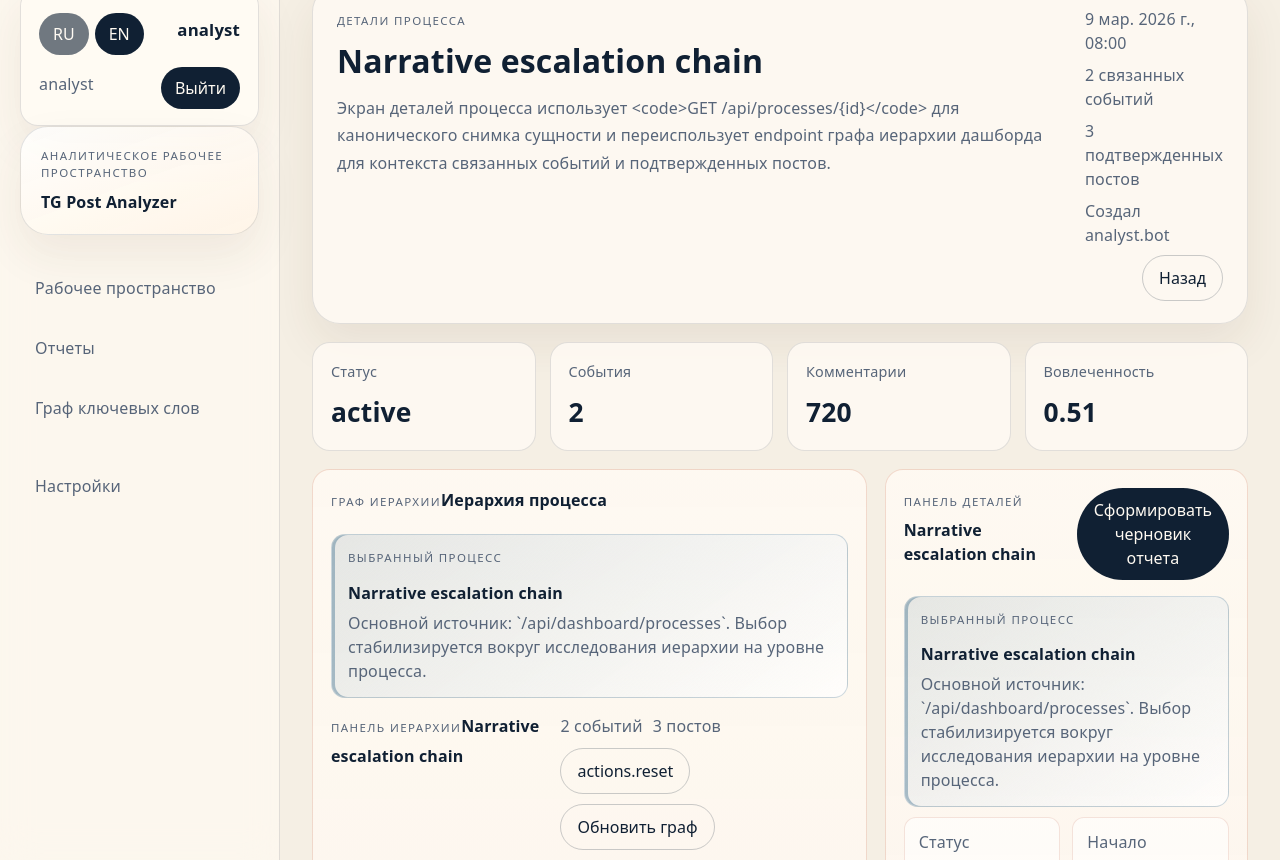
Test case: Process detail › runs the process report action flow and invalidates process detail data
This screenshot has width=1280, height=860.
Click the button "Сформировать черновик отчета" at [1153, 534], box [1077,488,1229,580]
(page scrolled)
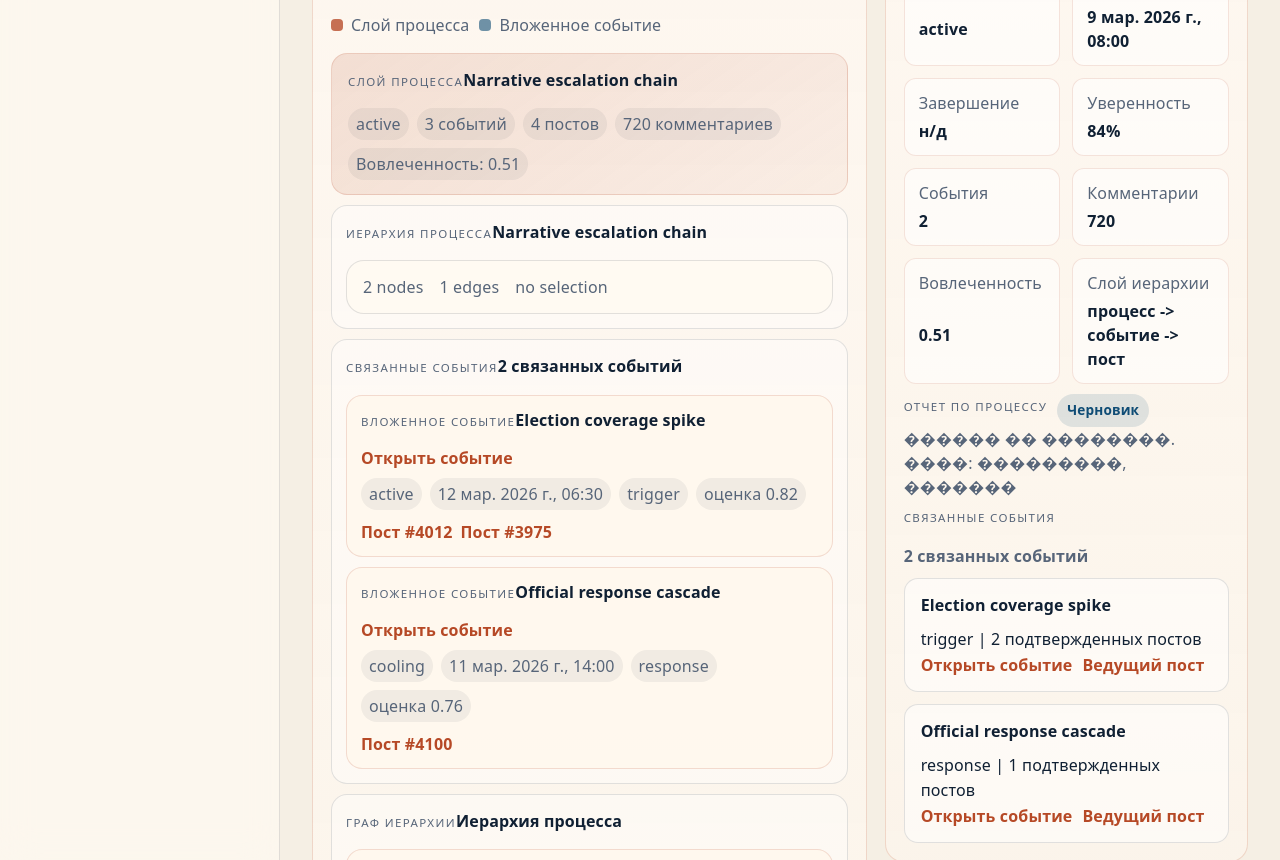
Now the text "Черновик" is shown, box [1057,394,1149,427]
